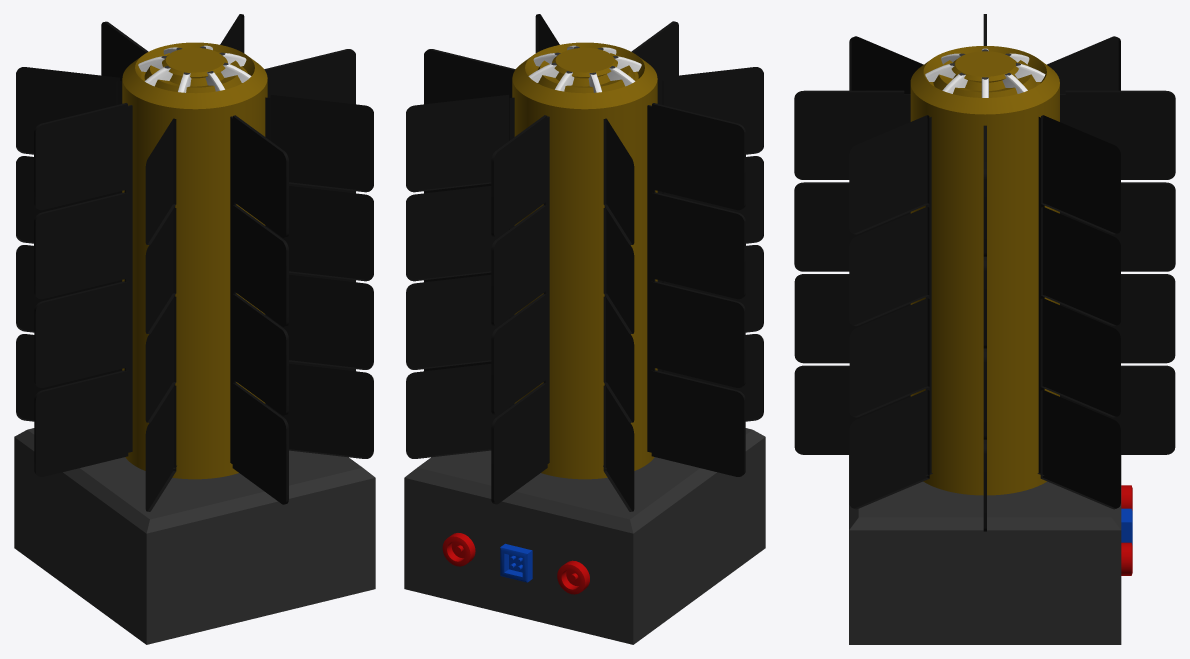
File: RTG.gltf
3 views of the same model, side by side, from view 1: azimuth 30°, elevation 25°; view 2: azimuth 150°, elevation 25°; view 3: azimuth 270°, elevation 25° (orthographic). The views are drawn at different scales.
Visible parts, largest first — view 1: base; view 2: base; view 3: base.
Part boxes in pixels (x1,y1,x2,y2): base: (14, 14, 375, 644); base: (404, 14, 765, 644); base: (794, 14, 1175, 644).
Bounding box in the file's own units: 0.6994 × 1.06 × 0.6994.
